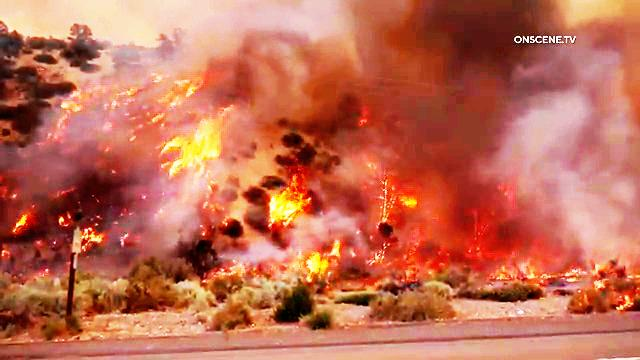fire: (146, 76, 244, 247), (92, 53, 242, 142), (55, 77, 146, 165), (248, 230, 357, 286), (394, 226, 480, 289), (257, 180, 303, 236), (493, 254, 545, 284)
smoke: (308, 6, 490, 84), (477, 55, 636, 141), (554, 157, 639, 216)
